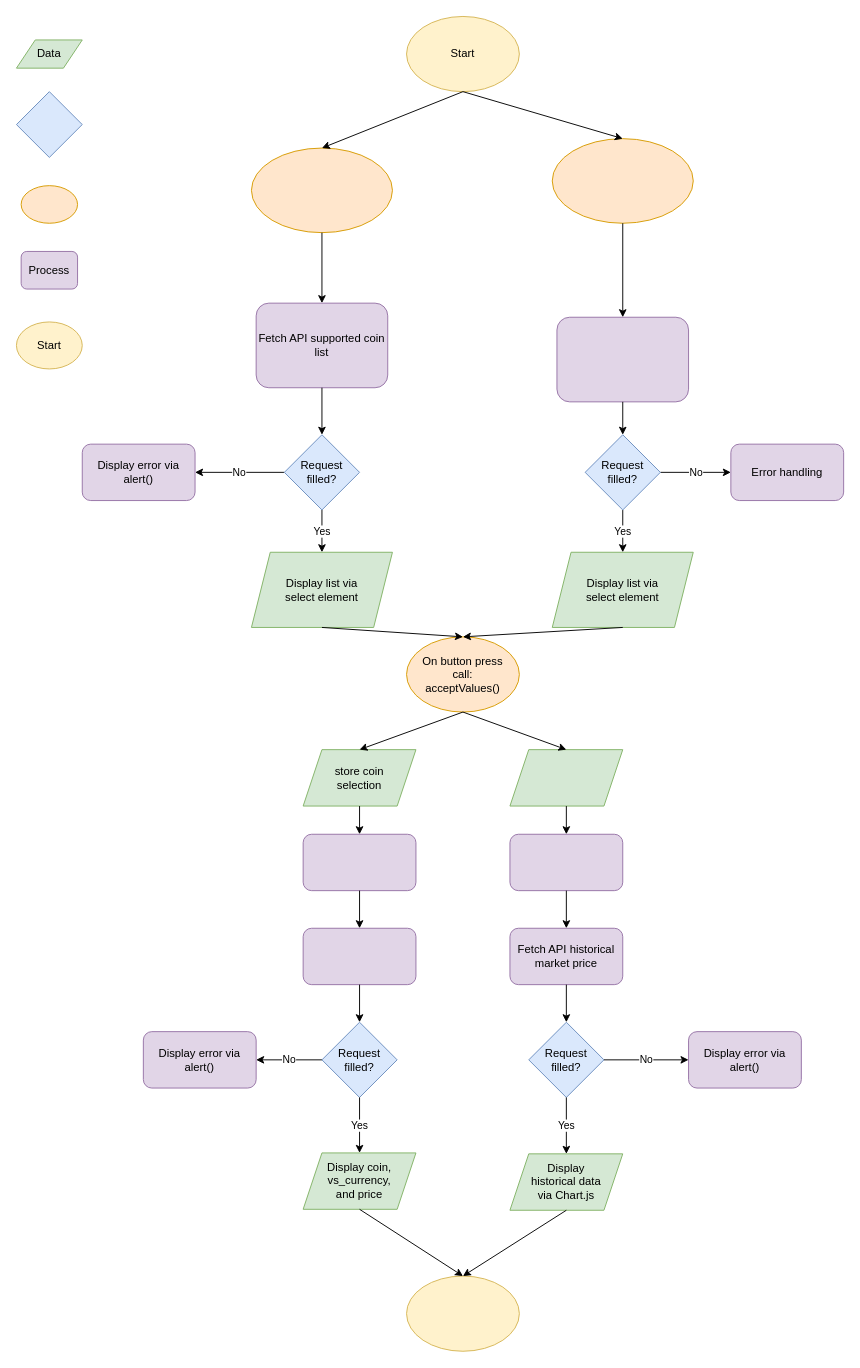
Image size: 860x1368. Some labels were removed from this diagram. Each missing label, with the box of its shape:
call: displayMarketChart(): (509, 833, 623, 891)
call: displayPrice(): (302, 833, 416, 891)
Complete: (406, 1275, 519, 1351)
Decision: (16, 91, 82, 157)
Event: (20, 185, 78, 223)
Fetch API market price: (302, 927, 416, 985)
Fetch API supported vs_currency list: (556, 316, 689, 402)
on window load call: updateCryptoList(): (251, 147, 392, 233)
on window load call: updateCurrencyList(): (551, 138, 693, 223)
store vs_currency selection: (509, 749, 623, 806)
